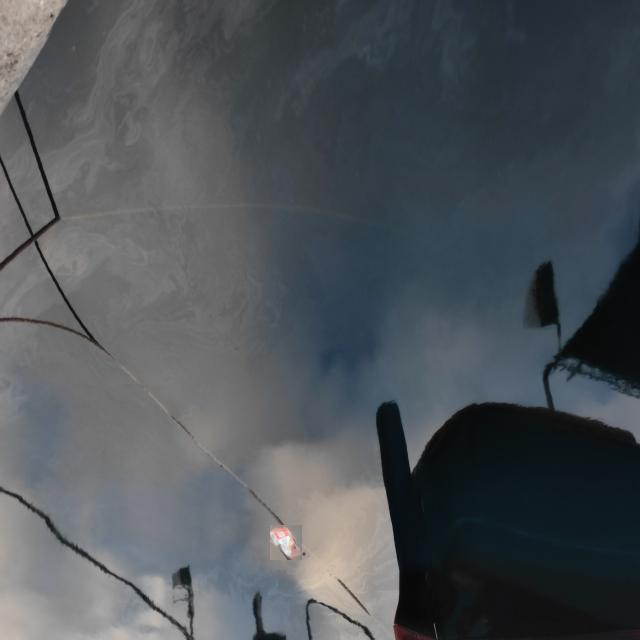Plastic packaging: (270, 525, 302, 560)
